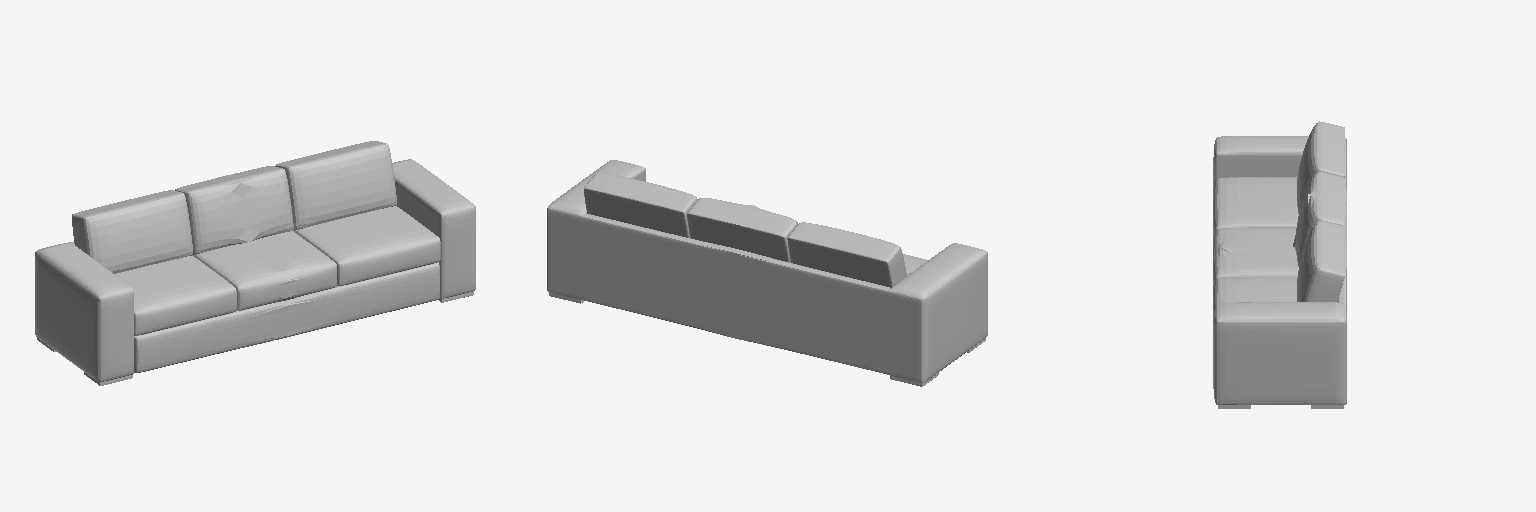
The model's file is rossini.obj.
3 renders of one model, left to right at view 1: azimuth 30°, elevation 25°; view 2: azimuth 150°, elevation 25°; view 3: azimuth 270°, elevation 25°, orthographic.
Visible parts, largest first — view 1: polySurface10; view 2: polySurface10; view 3: polySurface10.
Boxes of the visible parts, <box> form: polySurface10: <box>35,141,475,385</box>; polySurface10: <box>547,160,987,386</box>; polySurface10: <box>1213,121,1346,408</box>.
Bounding box in the file's own units: 7.19 × 2.24 × 2.19.